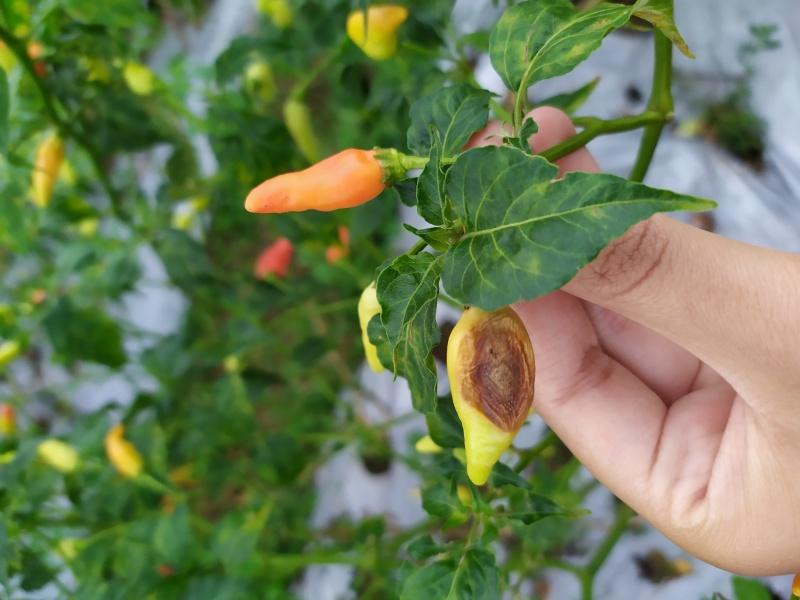antraknosa: (447, 302, 536, 486)
cabai_normal: (245, 146, 405, 214)
